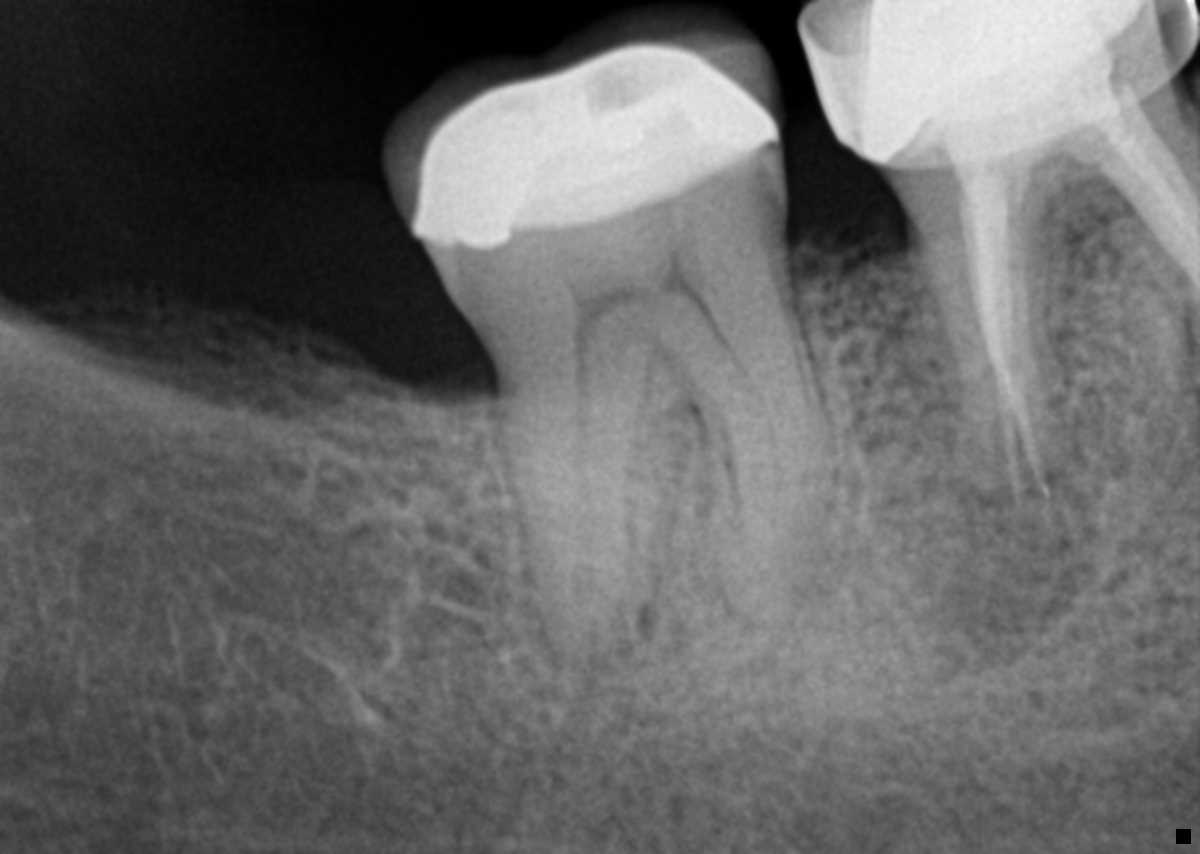Distal Canal: (576, 359, 591, 608)
Distal Root: (489, 350, 653, 664), (912, 204, 1065, 501)
Mesial Canal: (722, 345, 781, 523)
Mesial Root: (681, 291, 843, 620), (1083, 83, 1200, 319)
Root Canal Filling: (963, 156, 1050, 506), (1063, 85, 1200, 284)
